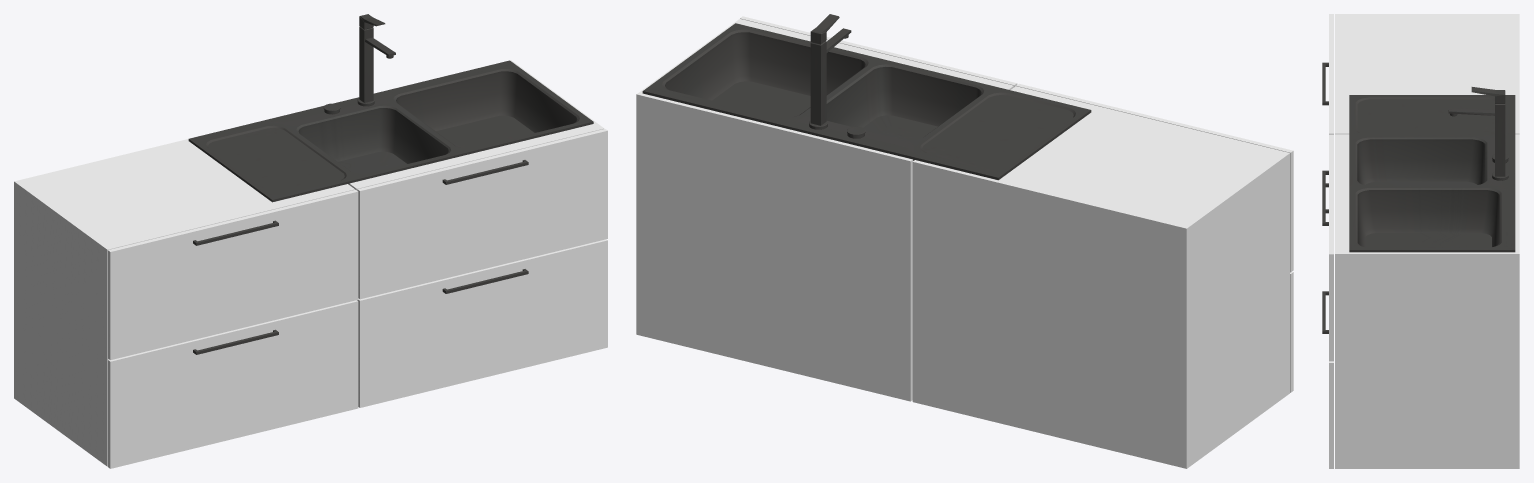
File: wash-basin.obj
3 renders of one model, left to right at view 1: azimuth 30°, elevation 25°; view 2: azimuth 150°, elevation 25°; view 3: azimuth 270°, elevation 25°, orthographic. The views are drawn at different scales.
Parts seen in each view (by area): view 1: wash-basin; view 2: wash-basin; view 3: wash-basin.
Part boxes in pixels (box(x1,y1,x2,y2)): wash-basin: box(14, 14, 607, 468); wash-basin: box(636, 14, 1293, 468); wash-basin: box(1322, 14, 1519, 468).
Size of the model in its own units: 2.71 by 1.61 by 0.9398.
2 materials, 2 textured.
